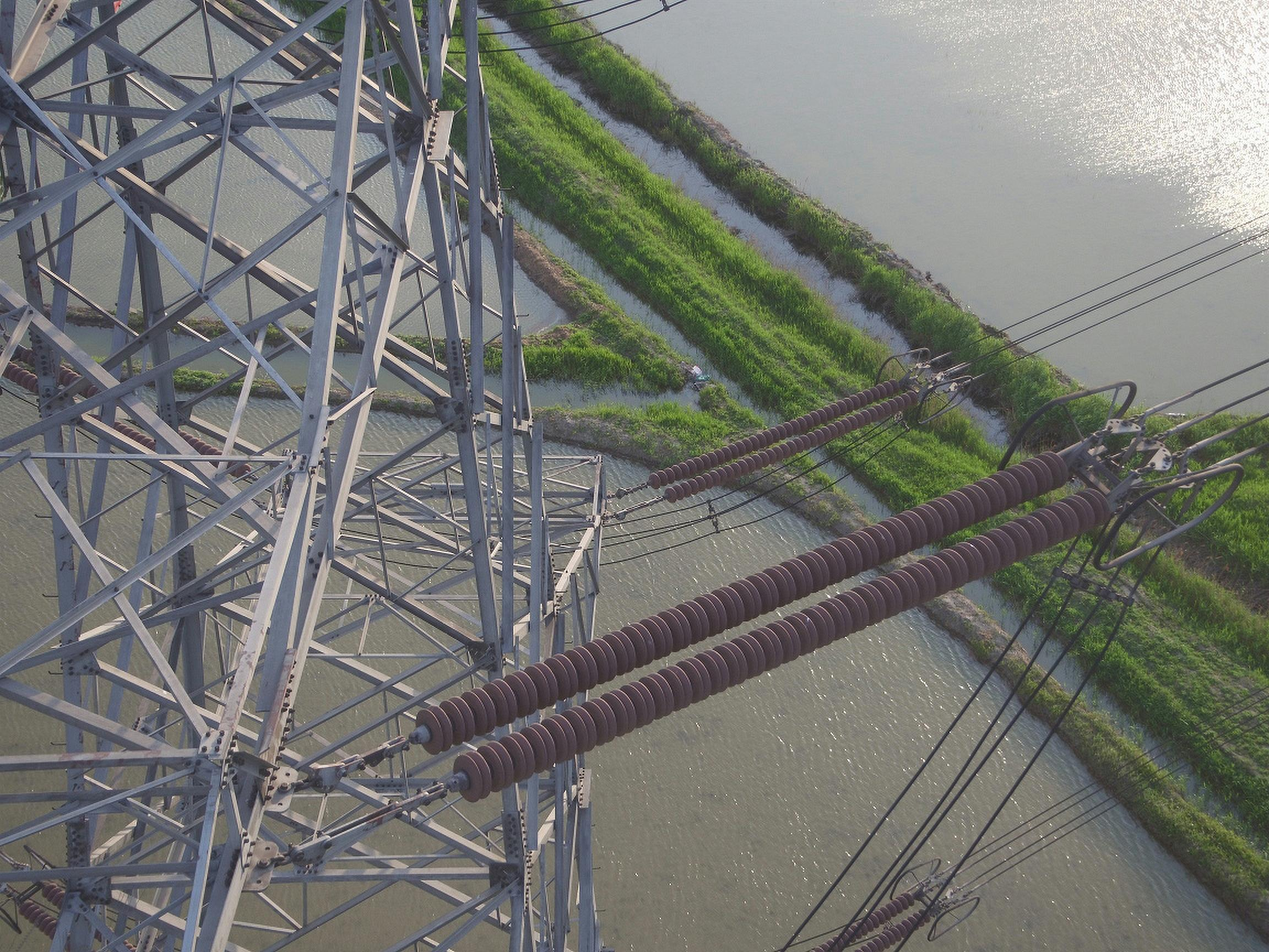insulator: (413, 446, 1116, 807), (1, 345, 256, 484), (647, 377, 920, 506), (801, 889, 932, 952)
